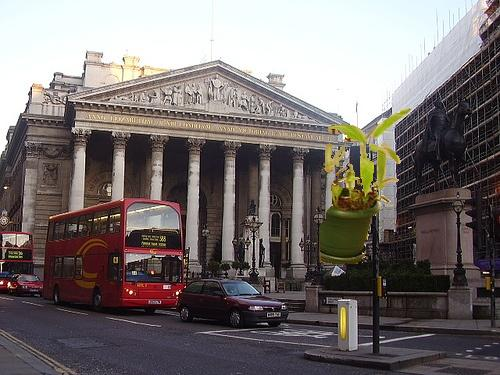tampered: (121, 109, 411, 264)
